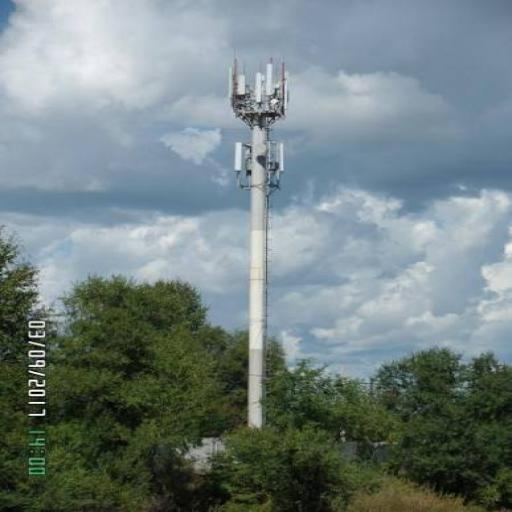odn_pole: (229, 54, 287, 428)
